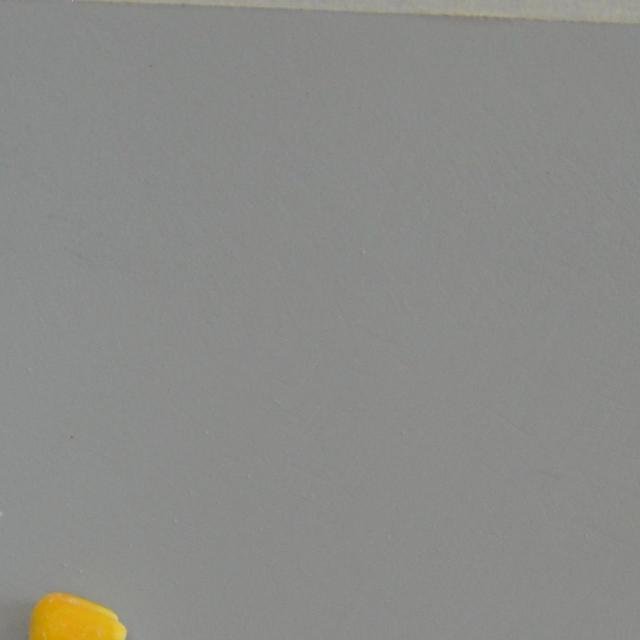pelicula: (24, 588, 129, 640)
